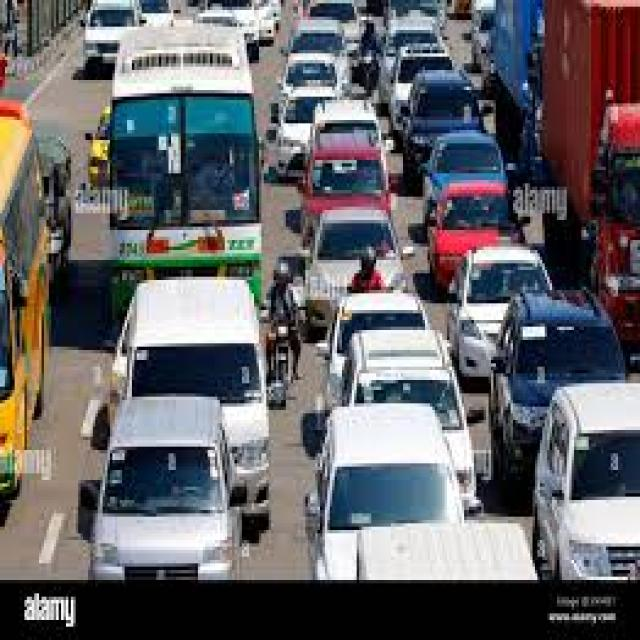bus: (110, 27, 259, 320), (0, 100, 46, 497)
car: (78, 397, 244, 580), (315, 403, 462, 580), (491, 290, 623, 477), (344, 330, 471, 507), (533, 383, 638, 580), (447, 247, 550, 377), (305, 210, 401, 327), (303, 117, 388, 243), (359, 520, 535, 580), (427, 180, 515, 290), (403, 70, 479, 167), (425, 130, 503, 220), (274, 90, 332, 183)
person: (269, 253, 303, 327), (349, 247, 381, 290)
truck: (542, 0, 638, 367)
van: (117, 277, 266, 537)
